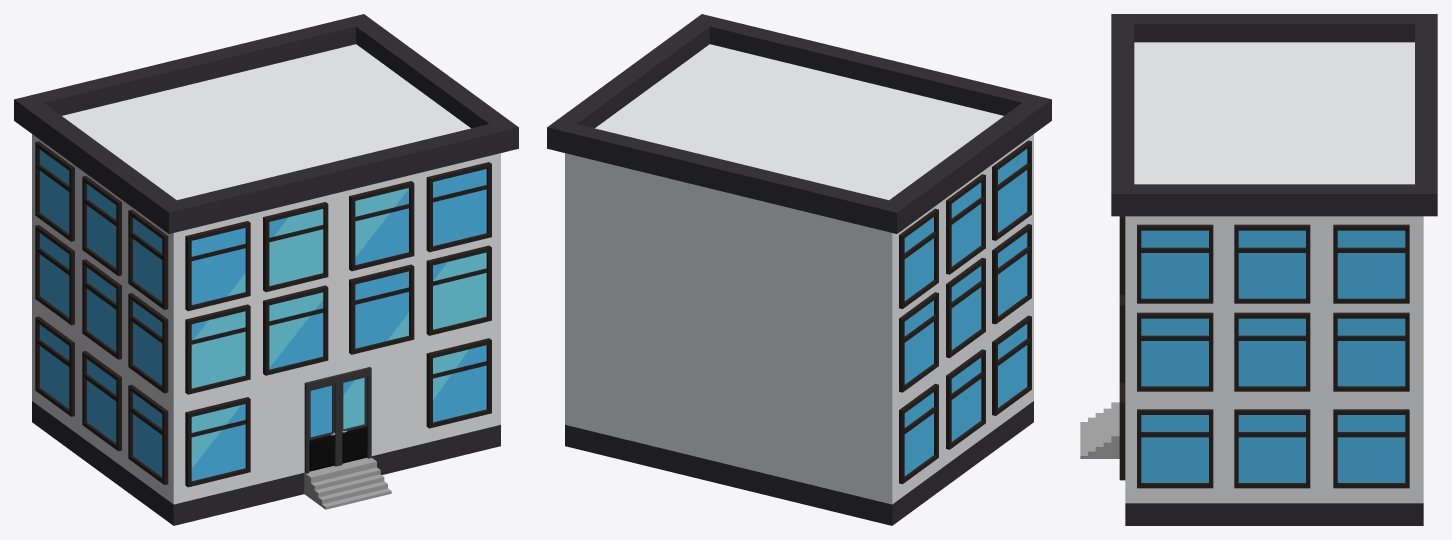
The model's file is Env_CompanyBuilding_04.fbx.
3 renders of one model, left to right at view 1: azimuth 30°, elevation 25°; view 2: azimuth 150°, elevation 25°; view 3: azimuth 270°, elevation 25°, orthographic. The views are drawn at different scales.
Parts seen in each view (by area): view 1: Env_CompanyBuilding_04; view 2: Env_CompanyBuilding_04; view 3: Env_CompanyBuilding_04.
Part boxes in pixels (left/top/right/bottom): Env_CompanyBuilding_04: left=14, top=14, right=518, bottom=525; Env_CompanyBuilding_04: left=547, top=14, right=1051, bottom=525; Env_CompanyBuilding_04: left=1080, top=14, right=1437, bottom=525.
Size of the model in its own units: 1117 by 978 by 937.
